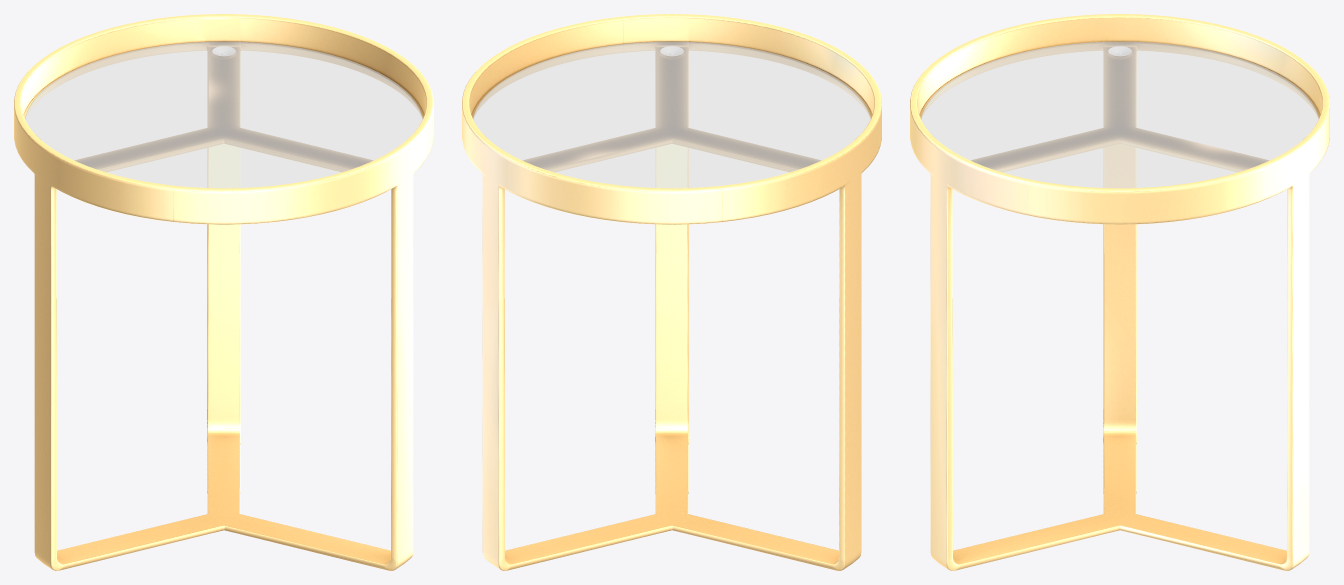
File: Side Table.glb
The picture shows the model from 3 angles, left to right: view 1: azimuth 30°, elevation 25°; view 2: azimuth 150°, elevation 25°; view 3: azimuth 270°, elevation 25°; orthographic projection.
Visible parts, largest first — view 1: STEEL_BLACK, GREY_GLASS; view 2: STEEL_BLACK, GREY_GLASS; view 3: STEEL_BLACK, GREY_GLASS.
Boxes of the visible parts, x1,y1,x2,y2 form: STEEL_BLACK: (14,14,433,570); GREY_GLASS: (25,41,422,188); STEEL_BLACK: (462,14,881,570); GREY_GLASS: (473,41,870,188); STEEL_BLACK: (910,14,1329,570); GREY_GLASS: (921,41,1318,188).
Size of what is drawn, in the model's own units: 45.05 by 50.04 by 45.01.
Materials: 4 (1 with a texture image).
